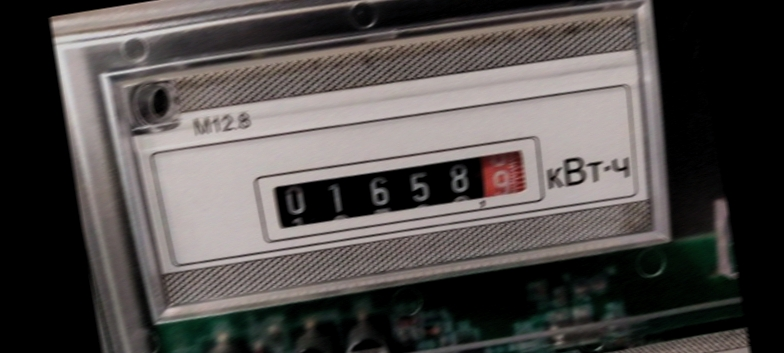0: (282, 186, 307, 218)
1: (325, 182, 347, 217)
5: (407, 171, 432, 205)
6: (367, 174, 391, 210)
8: (447, 162, 471, 197)
9: (488, 169, 513, 200)
screen: (243, 126, 553, 254)
